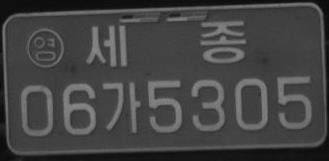0: (20, 83, 54, 137), (234, 77, 268, 131)
3: (191, 78, 225, 132)
5: (276, 74, 312, 130), (147, 78, 183, 133)
6: (62, 82, 97, 136)
가: (102, 80, 141, 134)
세종_D: (84, 19, 247, 66)
영: (26, 27, 65, 69)
